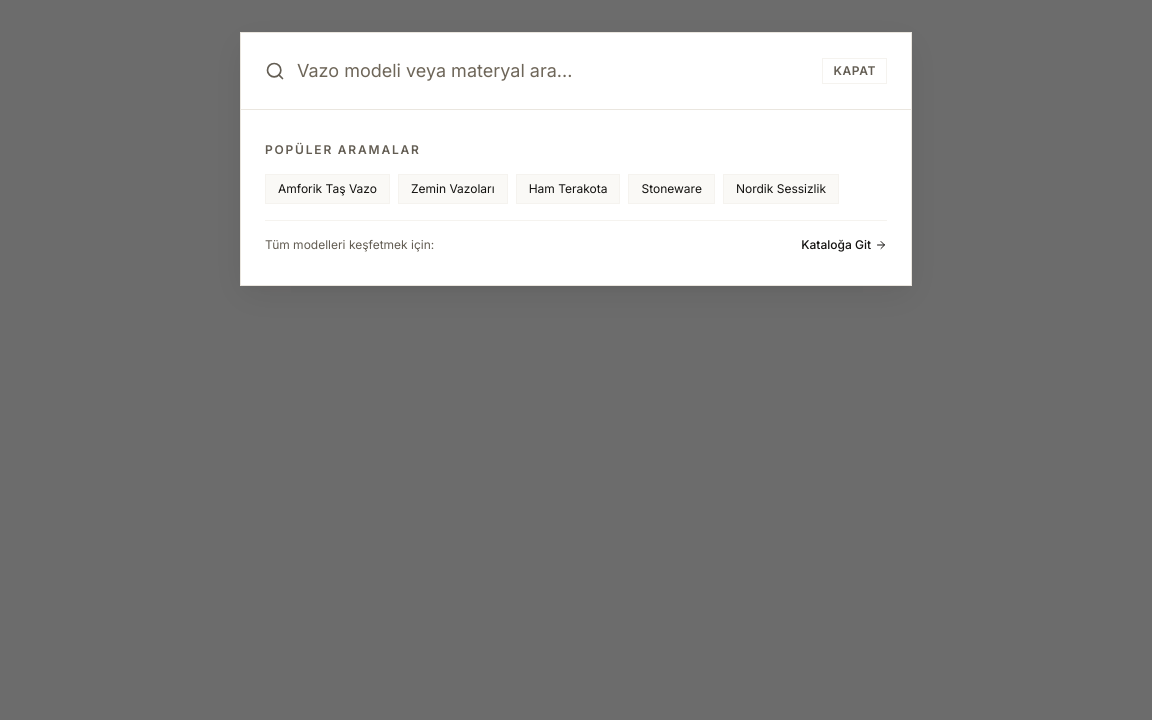
SearchModal Component › displays search error state when repository rejects
In the search field with placeholder "Vazo modeli veya materyal ara...": (554, 71) [297,57,810,85], type "HataTesti"
Wait 250 ms
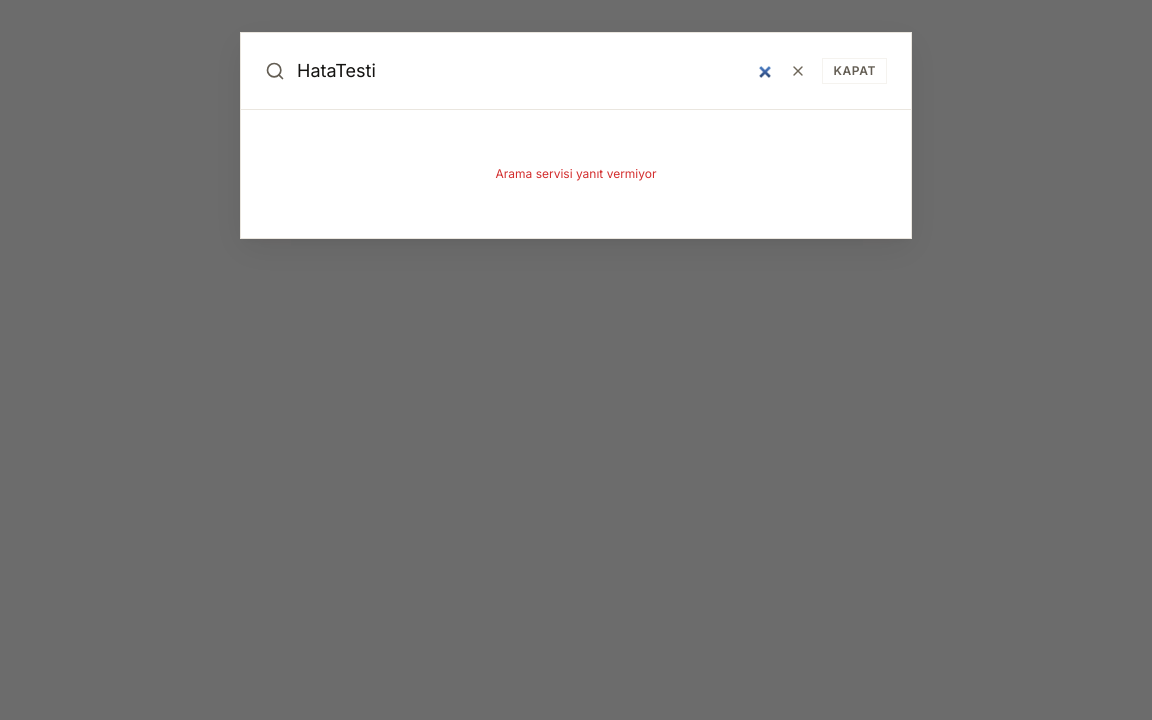
Expected: the text "Arama servisi yanıt vermiyor" is shown, [496,166,656,181]
